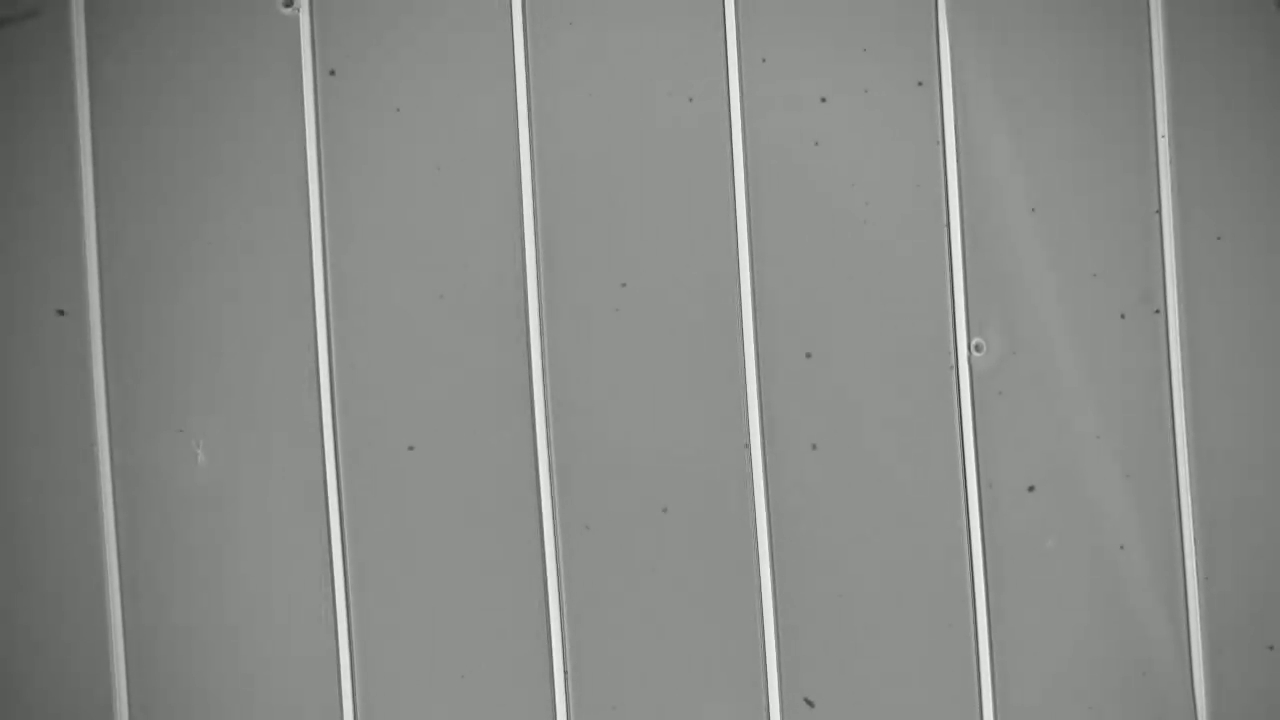stains_enbedded: (268, 1, 328, 18)
